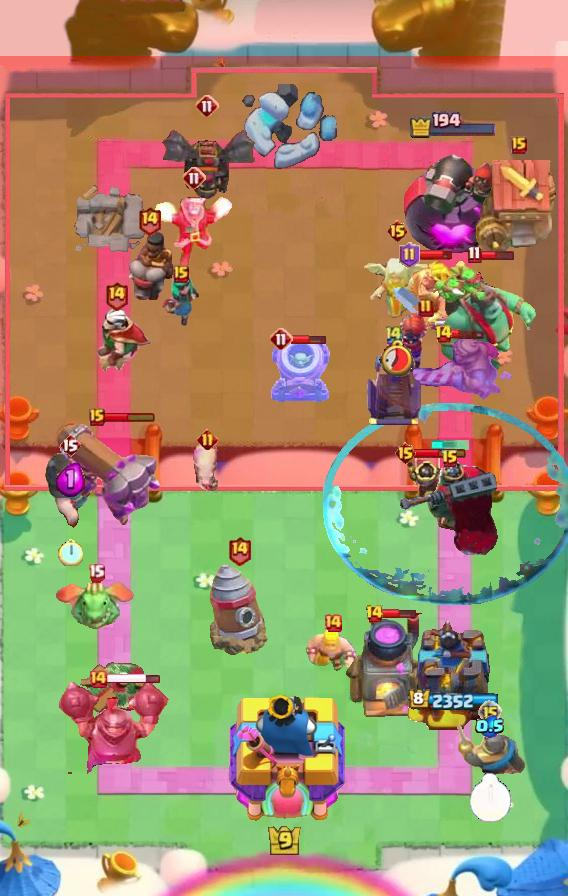archer: (304, 626, 362, 678)
archer-evolution: (159, 123, 255, 201)
bomber-evolution: (393, 453, 445, 503)
electro-spirit: (55, 462, 84, 497), (475, 714, 505, 738)
electro-wizard: (55, 577, 137, 631)
elite-barbarian: (123, 228, 175, 302)
elixir: (469, 773, 511, 823), (379, 339, 416, 378), (57, 538, 82, 566)
emote: (106, 671, 161, 684), (103, 411, 156, 423), (414, 447, 467, 459), (417, 249, 453, 261), (450, 328, 486, 340), (481, 249, 516, 261), (291, 334, 327, 345), (381, 609, 417, 620)
firecracker: (454, 723, 526, 778)
furnace: (54, 420, 162, 530)
giant: (190, 438, 224, 494)
goblin-cage: (268, 335, 332, 405)
goblin-hut: (388, 259, 460, 339)
hunter: (344, 613, 434, 721)
ice-spirit: (430, 440, 470, 450)
ice-spirit-evolution-symbol: (364, 335, 424, 427)
inferno-tower: (399, 459, 501, 555)
king-tower: (223, 689, 345, 826)
lava-hound: (431, 259, 537, 377)
magic-archer: (209, 563, 269, 657)
mortar: (151, 195, 237, 269)
pad_0: (324, 403, 568, 609)
poison: (353, 247, 441, 327)
queen-tower: (405, 617, 501, 731)
ram-rider: (401, 335, 515, 405)
royal-guardian: (51, 678, 171, 780)
royal-hog: (45, 450, 95, 528)
selected: (410, 111, 499, 139), (409, 688, 500, 712)
skeleton-king: (77, 307, 155, 375)
sparky: (476, 159, 562, 257)
tesla-evolution: (395, 308, 457, 370)
text: (138, 205, 163, 236), (103, 280, 128, 311), (227, 534, 252, 565), (195, 94, 219, 118), (182, 166, 206, 190), (269, 327, 293, 351), (478, 700, 502, 724), (399, 242, 421, 268), (386, 219, 409, 243), (395, 441, 418, 465), (59, 433, 81, 457), (197, 429, 218, 450), (384, 323, 404, 345), (434, 324, 454, 344), (323, 613, 343, 633), (88, 669, 108, 689), (365, 604, 384, 624), (441, 449, 459, 469), (87, 563, 105, 581), (418, 298, 434, 318), (511, 136, 527, 154), (173, 265, 189, 283), (89, 408, 105, 426), (467, 245, 481, 263)
tower-bar: (403, 138, 503, 256)
witch: (161, 273, 201, 327)
